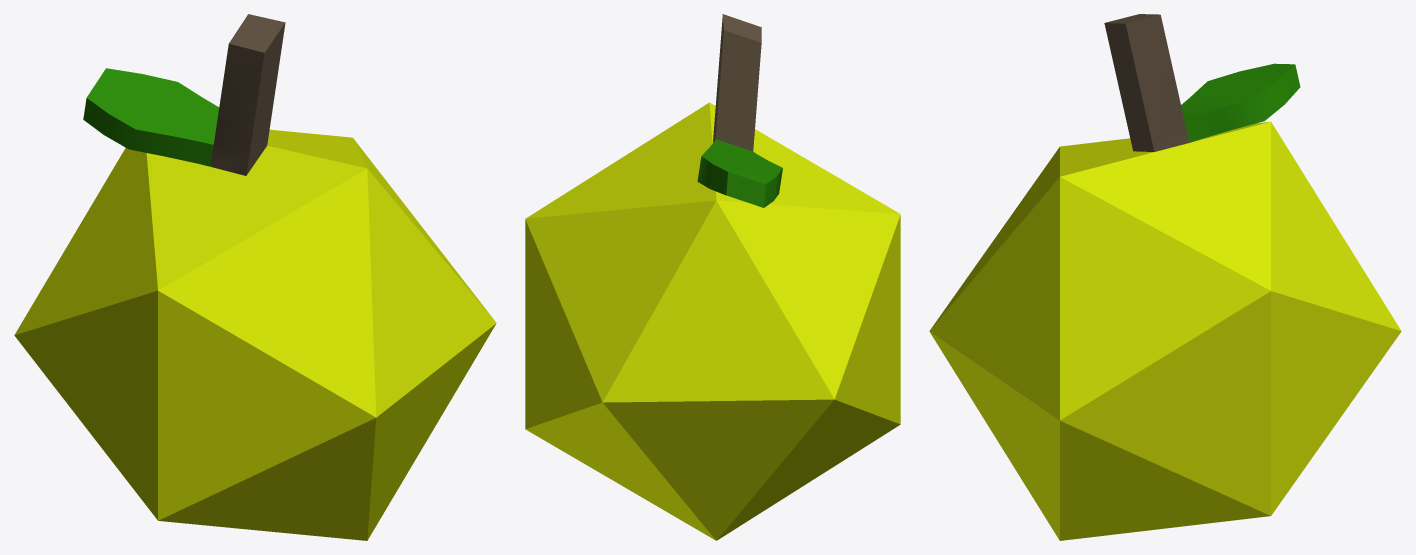
Rendered from LimeFruit.fbx.
3 views of the same model, side by side, from view 1: azimuth 30°, elevation 25°; view 2: azimuth 150°, elevation 25°; view 3: azimuth 270°, elevation 25° (orthographic). The views are drawn at different scales.
Parts seen in each view (by area): view 1: pPlatonic1.011, pPlatonic1.009, pPlatonic1.010; view 2: pPlatonic1.011, pPlatonic1.010, pPlatonic1.009; view 3: pPlatonic1.011, pPlatonic1.010, pPlatonic1.009.
Boxes of the visible parts, box(x1,y1,x2,y2) form: pPlatonic1.011: box(14, 129, 496, 540); pPlatonic1.009: box(83, 68, 219, 166); pPlatonic1.010: box(210, 14, 285, 175); pPlatonic1.011: box(525, 102, 900, 540); pPlatonic1.010: box(713, 14, 761, 151); pPlatonic1.009: box(697, 139, 782, 207); pPlatonic1.011: box(929, 121, 1401, 540); pPlatonic1.010: box(1104, 14, 1189, 151); pPlatonic1.009: box(1181, 63, 1300, 142).
Size of the model in its own units: 52.15 by 67.32 by 58.31.
